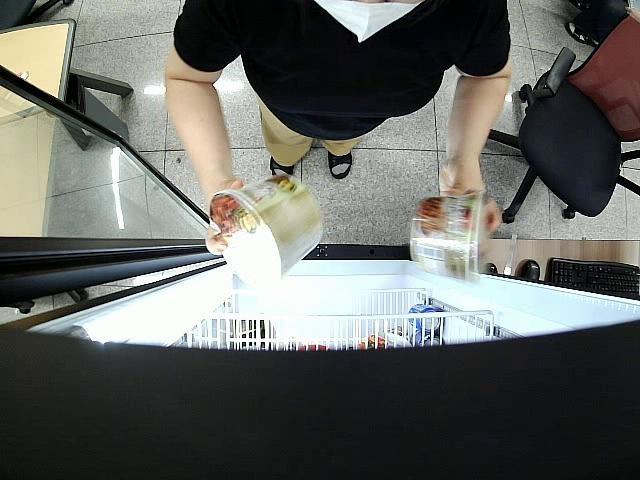03_chapagetti_L: (211, 176, 324, 286), (410, 189, 488, 286)
